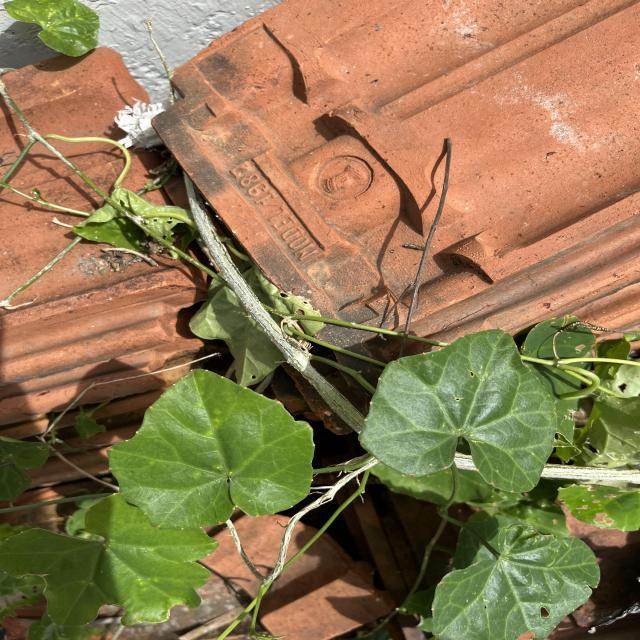Coccinia grandis: (104, 366, 318, 531), (356, 326, 560, 494)
